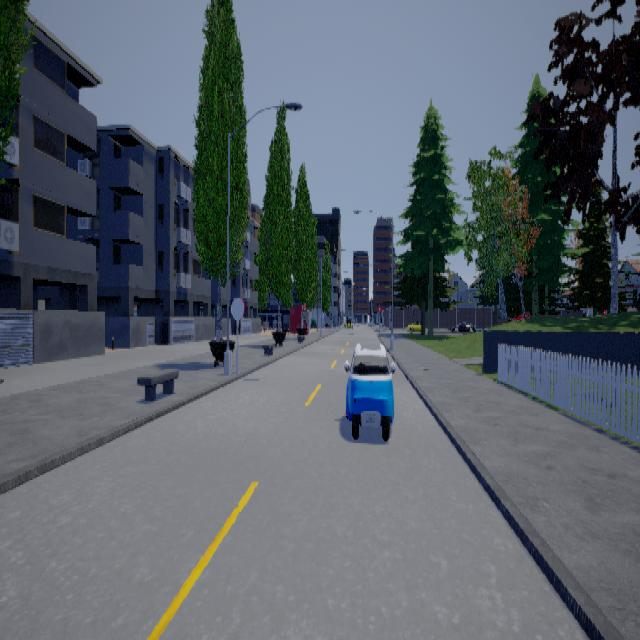red_light: (378, 305, 380, 315)
vehicle: (343, 340, 394, 440)
